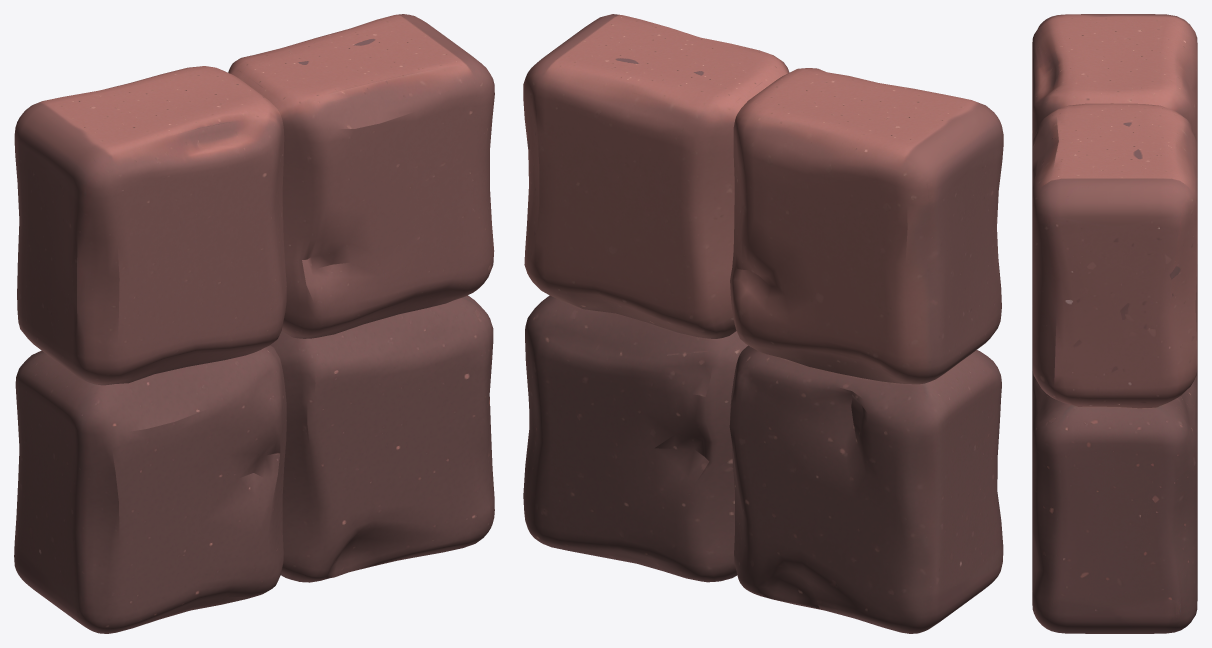
Rendered from brick_L_granite_old.glb.
3 views of the same model, side by side, from view 1: azimuth 30°, elevation 25°; view 2: azimuth 150°, elevation 25°; view 3: azimuth 270°, elevation 25° (orthographic). The views are drawn at different scales.
Parts seen in each view (by area): view 1: Mesh_0; view 2: Mesh_0; view 3: Mesh_0.
Part boxes in pixels (x1,y1,x2,y2): Mesh_0: [14, 14, 494, 633]; Mesh_0: [523, 14, 1003, 633]; Mesh_0: [1032, 14, 1197, 633].
Bounding box in the file's own units: 1.7 × 1.9 × 0.6296.
1 material, 1 textured.
